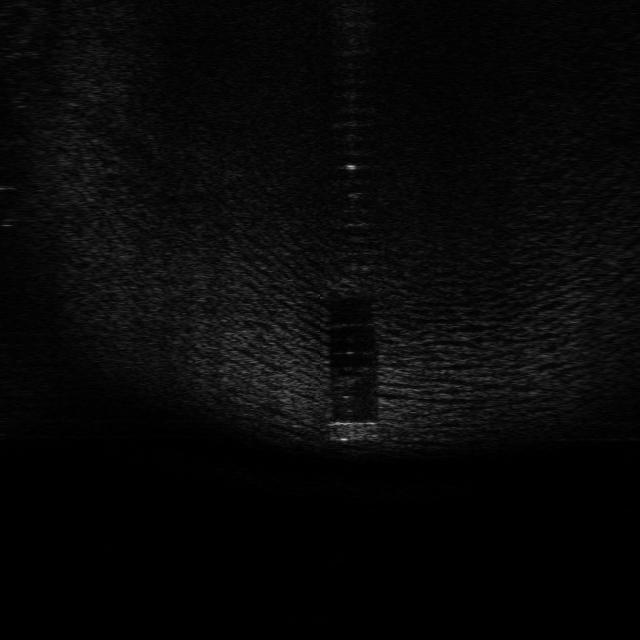cube: (327, 419, 383, 445)
